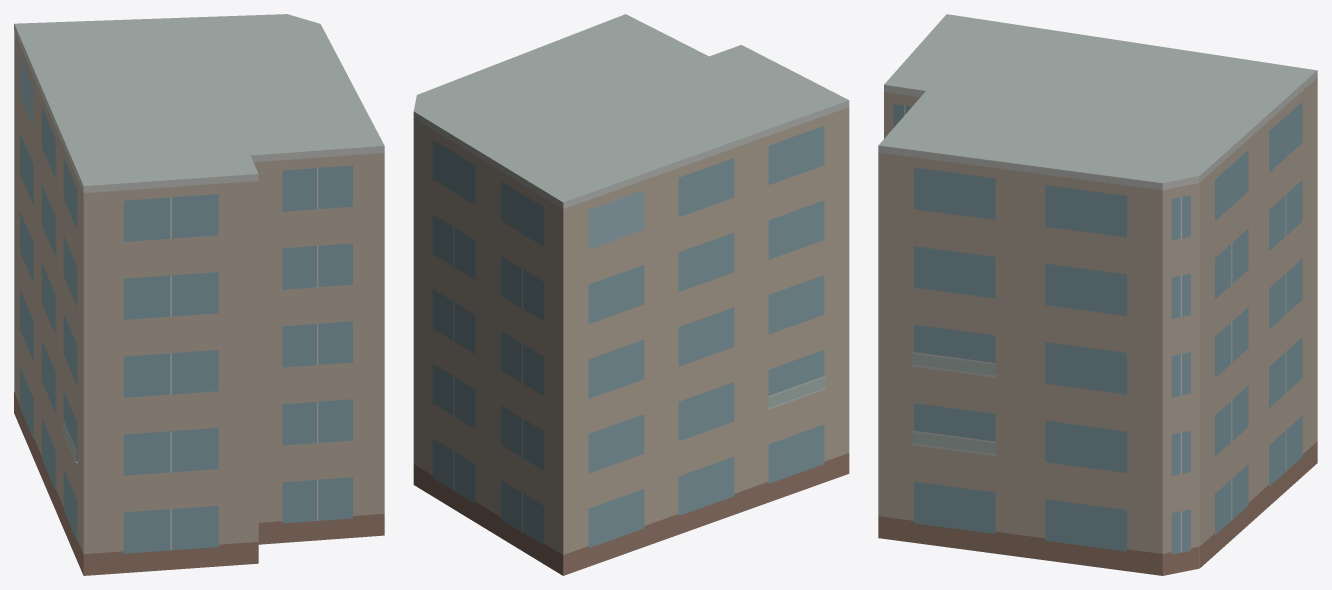
File: survey-upis-33039425.glb
The picture shows the model from 3 angles, left to right: view 1: azimuth 30°, elevation 25°; view 2: azimuth 150°, elevation 25°; view 3: azimuth 270°, elevation 25°; orthographic projection. The views are drawn at different scales.
Visible parts, largest first — view 1: survey-upis-33039425.tmp; view 2: survey-upis-33039425.tmp; view 3: survey-upis-33039425.tmp.
Boxes of the visible parts, bbox=[...] form: survey-upis-33039425.tmp: bbox=[14, 14, 384, 575]; survey-upis-33039425.tmp: bbox=[413, 14, 849, 575]; survey-upis-33039425.tmp: bbox=[878, 14, 1317, 575].
Size of the model in its own units: 12.58 by 13.6 by 13.79.
